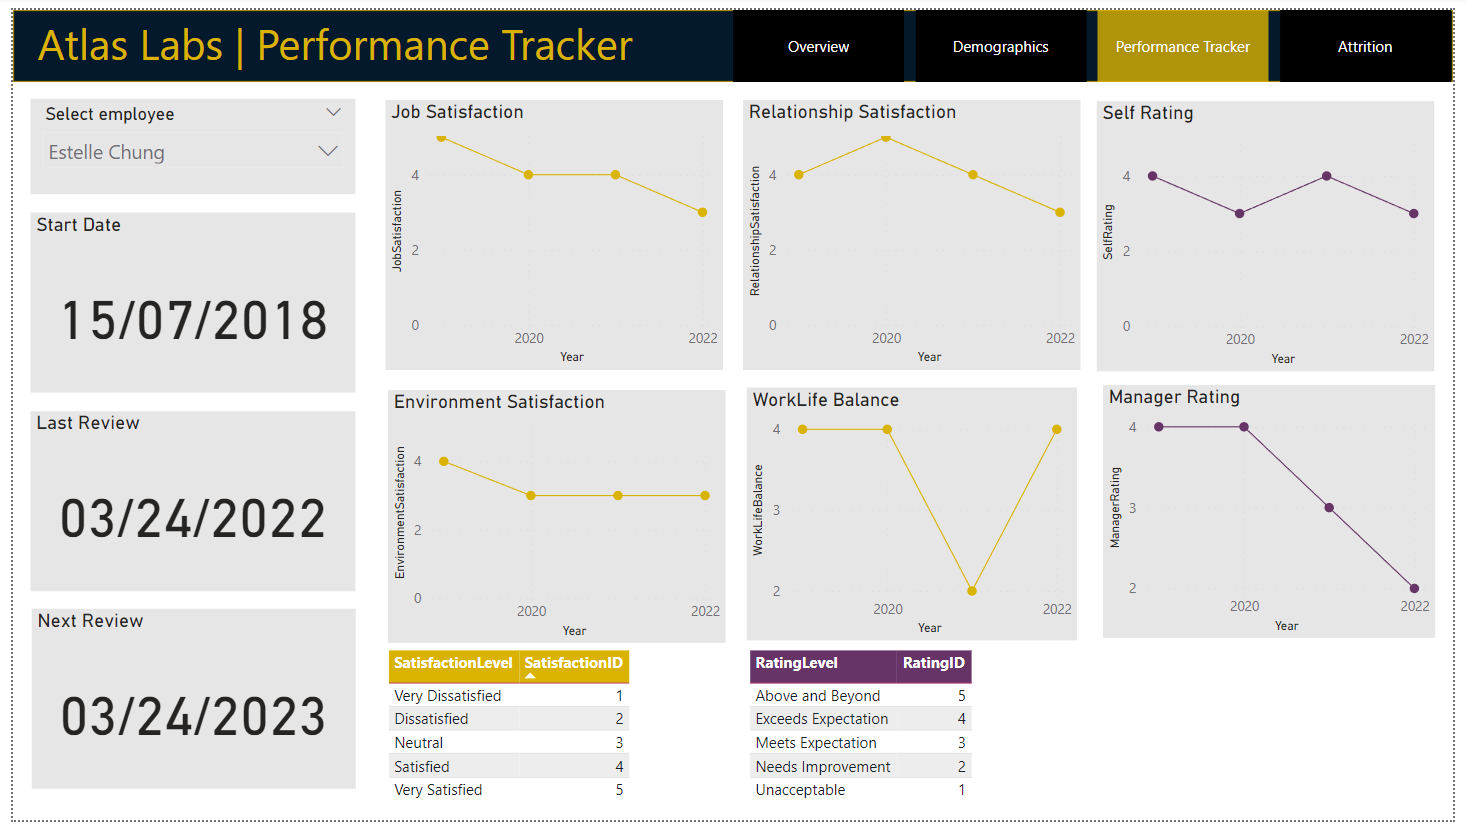

This screenshot's page, from the dashboard's own definition file:
{"tool":"powerbi","page":{"name":"Performance Tracker","canvas":[1280,720],"ordinal":2},"visuals":[{"type":"slicer","fields":{"Values":["DimEmployee.FullName"]},"box":[15.9,78.8,288.8,85],"z":0},{"type":"card","title":"Start Date","fields":{"Values":["DimEmployee.HireDate"]},"box":[15.9,180.1,288.8,160],"z":1000},{"type":"card","title":"Last Review","fields":{"Values":["_Measures.LastReviewDate"]},"box":[15.9,356.3,288.8,160],"z":2000},{"type":"card","title":"Next Review","fields":{"Values":["_Measures.NextReviewDate"]},"box":[17.2,532.6,288,160],"z":3000},{"type":"lineChart","title":"Job Satisfaction","fields":{"Y":["_Measures.JobSatisfaction"],"Category":["DimDate.Year"]},"box":[331.3,80.4,300,240],"z":4000},{"type":"lineChart","title":"Relationship Satisfaction","fields":{"Y":["_Measures.RelationshipSatisfaction"],"Category":["DimDate.Year"]},"box":[648.8,80,300,240],"z":5000},{"type":"lineChart","title":"Environment Satisfaction","fields":{"Y":["_Measures.EnvironmentSatisfaction"],"Category":["DimDate.Year"]},"box":[333.8,337.5,300,225],"z":6000},{"type":"lineChart","title":"WorkLife Balance","fields":{"Y":["_Measures.WorkLifeBalance"],"Category":["DimDate.Year"]},"box":[652.5,335,293.8,225],"z":7000},{"type":"lineChart","title":"Self Rating","fields":{"Y":["_Measures.SelfRating"],"Category":["DimDate.Year"]},"box":[963.8,81.2,300,240],"z":8000},{"type":"lineChart","title":"Manager Rating","fields":{"Y":["_Measures.ManagerRating"],"Category":["DimDate.Year"]},"box":[968.8,333.8,295,225],"z":9000},{"type":"tableEx","fields":{"Values":["DimSatisfiedLevel.SatisfactionLevel","DimSatisfiedLevel.SatisfactionID"]},"box":[327.9,564,227.9,155.8],"z":10000},{"type":"tableEx","fields":{"Values":["DimRatingLevel.RatingLevel","DimRatingLevel.RatingID"]},"box":[648.8,564,209.3,155.8],"z":11000},{"type":"shape","box":[0,0,1280,64],"z":12000},{"type":"textbox","box":[16.2,0,566.2,63.8],"z":13000},{"type":"pageNavigator","box":[640,0,640,64],"z":14000}]}

Visuals, with their boxes in screenshot pixels (x1, y1, x2, y2), scaled from the page's 1280x720 canvas onto the 1466x836 screenshot:
slicer - DimEmployee.FullName: bbox=[18, 91, 349, 190]
"Start Date" card: bbox=[18, 209, 349, 395]
"Last Review" card: bbox=[18, 414, 349, 599]
"Next Review" card: bbox=[20, 618, 350, 804]
"Job Satisfaction" lineChart: bbox=[379, 93, 723, 372]
"Relationship Satisfaction" lineChart: bbox=[743, 93, 1087, 372]
"Environment Satisfaction" lineChart: bbox=[382, 392, 726, 653]
"WorkLife Balance" lineChart: bbox=[747, 389, 1084, 650]
"Self Rating" lineChart: bbox=[1104, 94, 1447, 373]
"Manager Rating" lineChart: bbox=[1110, 388, 1447, 649]
tableEx - DimSatisfiedLevel.SatisfactionLevel x DimSatisfiedLevel.SatisfactionID: bbox=[376, 655, 637, 835]
tableEx - DimRatingLevel.RatingLevel x DimRatingLevel.RatingID: bbox=[743, 655, 983, 835]
shape: bbox=[0, 0, 1465, 74]
textbox: bbox=[19, 0, 667, 74]
pageNavigator: bbox=[733, 0, 1465, 74]
